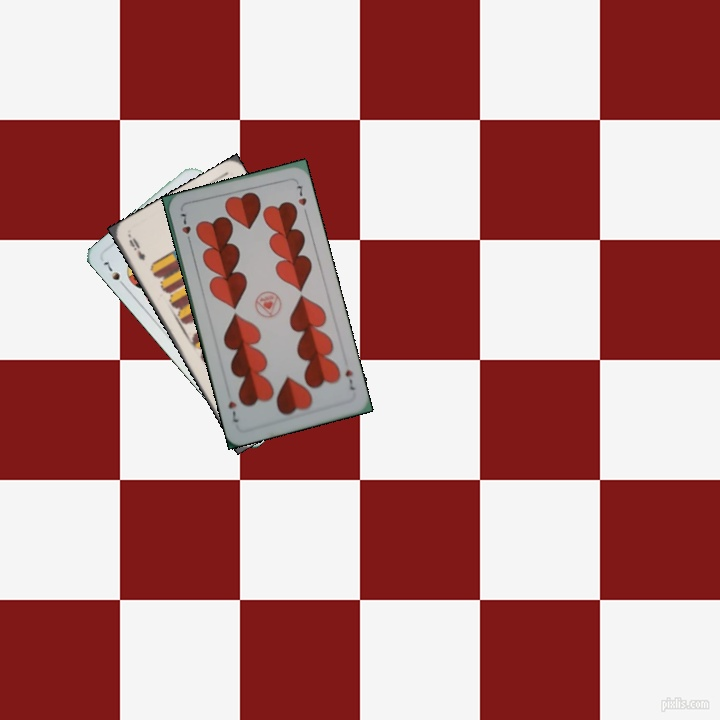E9: (125, 234, 148, 263)
H7: (177, 208, 194, 247), (341, 365, 357, 393)
S7: (99, 257, 129, 291)
